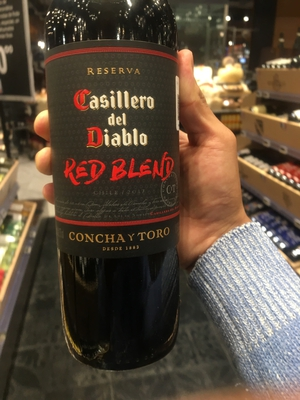casillero del diablo red blend: (28, 1, 204, 375)
